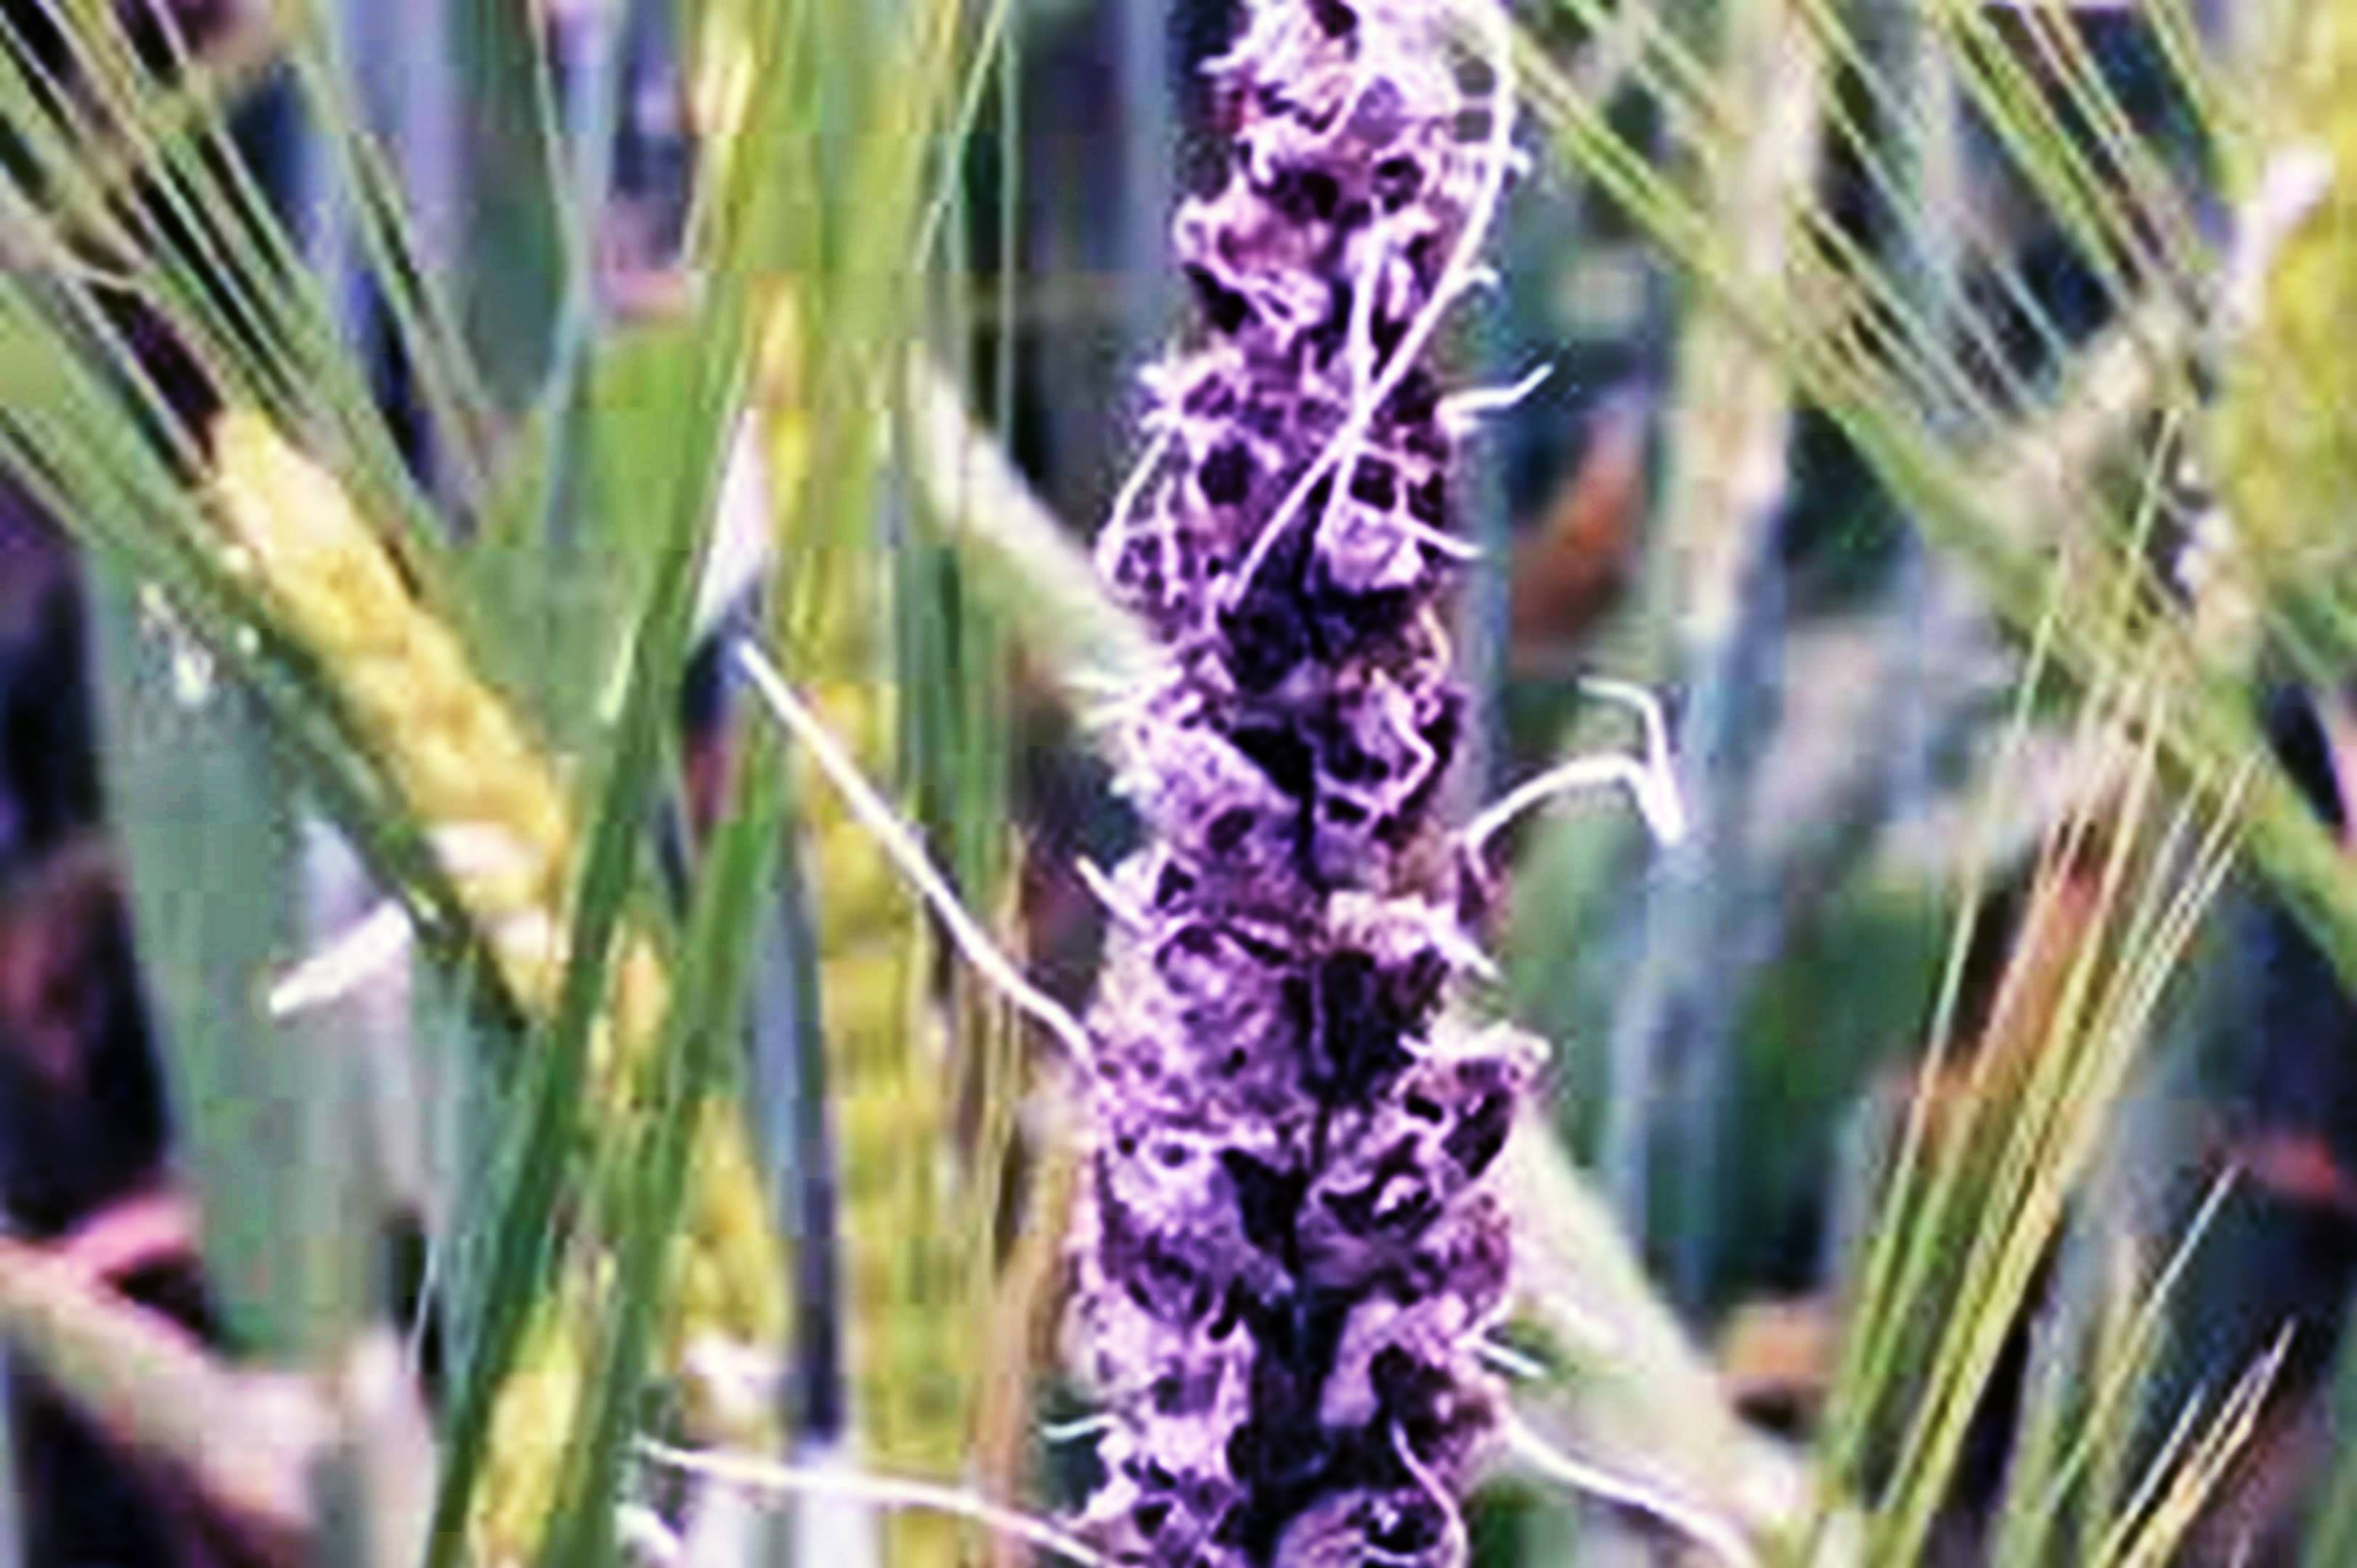Wheat Loose Smut: (1011, 51, 1566, 1556)
